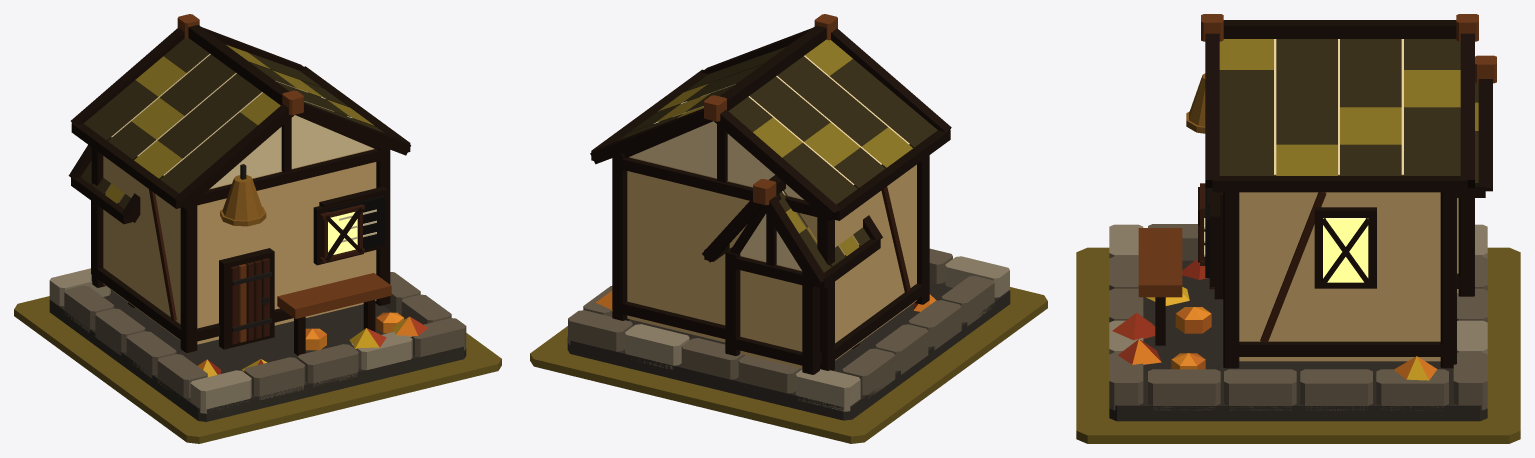
The model's file is schoolroom_t4.glb.
3 renders of one model, left to right at view 1: azimuth 30°, elevation 25°; view 2: azimuth 150°, elevation 25°; view 3: azimuth 270°, elevation 25°, orthographic. The views are drawn at different scales.
Visible parts, largest first — view 1: MMR | schoolroom | T04 Architecture.001, MMR | schoolroom | Tier 04 Ground.001, MMR | schoolroom | T04 Autumn Dressing.001; view 2: MMR | schoolroom | T04 Architecture.001, MMR | schoolroom | Tier 04 Ground.001; view 3: MMR | schoolroom | T04 Architecture.001, MMR | schoolroom | Tier 04 Ground.001, MMR | schoolroom | T04 Autumn Dressing.001.
Boxes of the visible parts, box(x1,y1,x2,y2) form: MMR | schoolroom | T04 Architecture.001: box(49, 14, 466, 421); MMR | schoolroom | Tier 04 Ground.001: box(14, 296, 501, 443); MMR | schoolroom | T04 Autumn Dressing.001: box(198, 312, 428, 376); MMR | schoolroom | T04 Architecture.001: box(567, 14, 1010, 420); MMR | schoolroom | Tier 04 Ground.001: box(530, 287, 1047, 443); MMR | schoolroom | T04 Architecture.001: box(1109, 14, 1496, 421); MMR | schoolroom | Tier 04 Ground.001: box(1076, 247, 1520, 443); MMR | schoolroom | T04 Autumn Dressing.001: box(1112, 258, 1437, 380).
Size of the model in its own units: 2.35 by 1.93 by 2.35.
2 materials, 1 textured.
